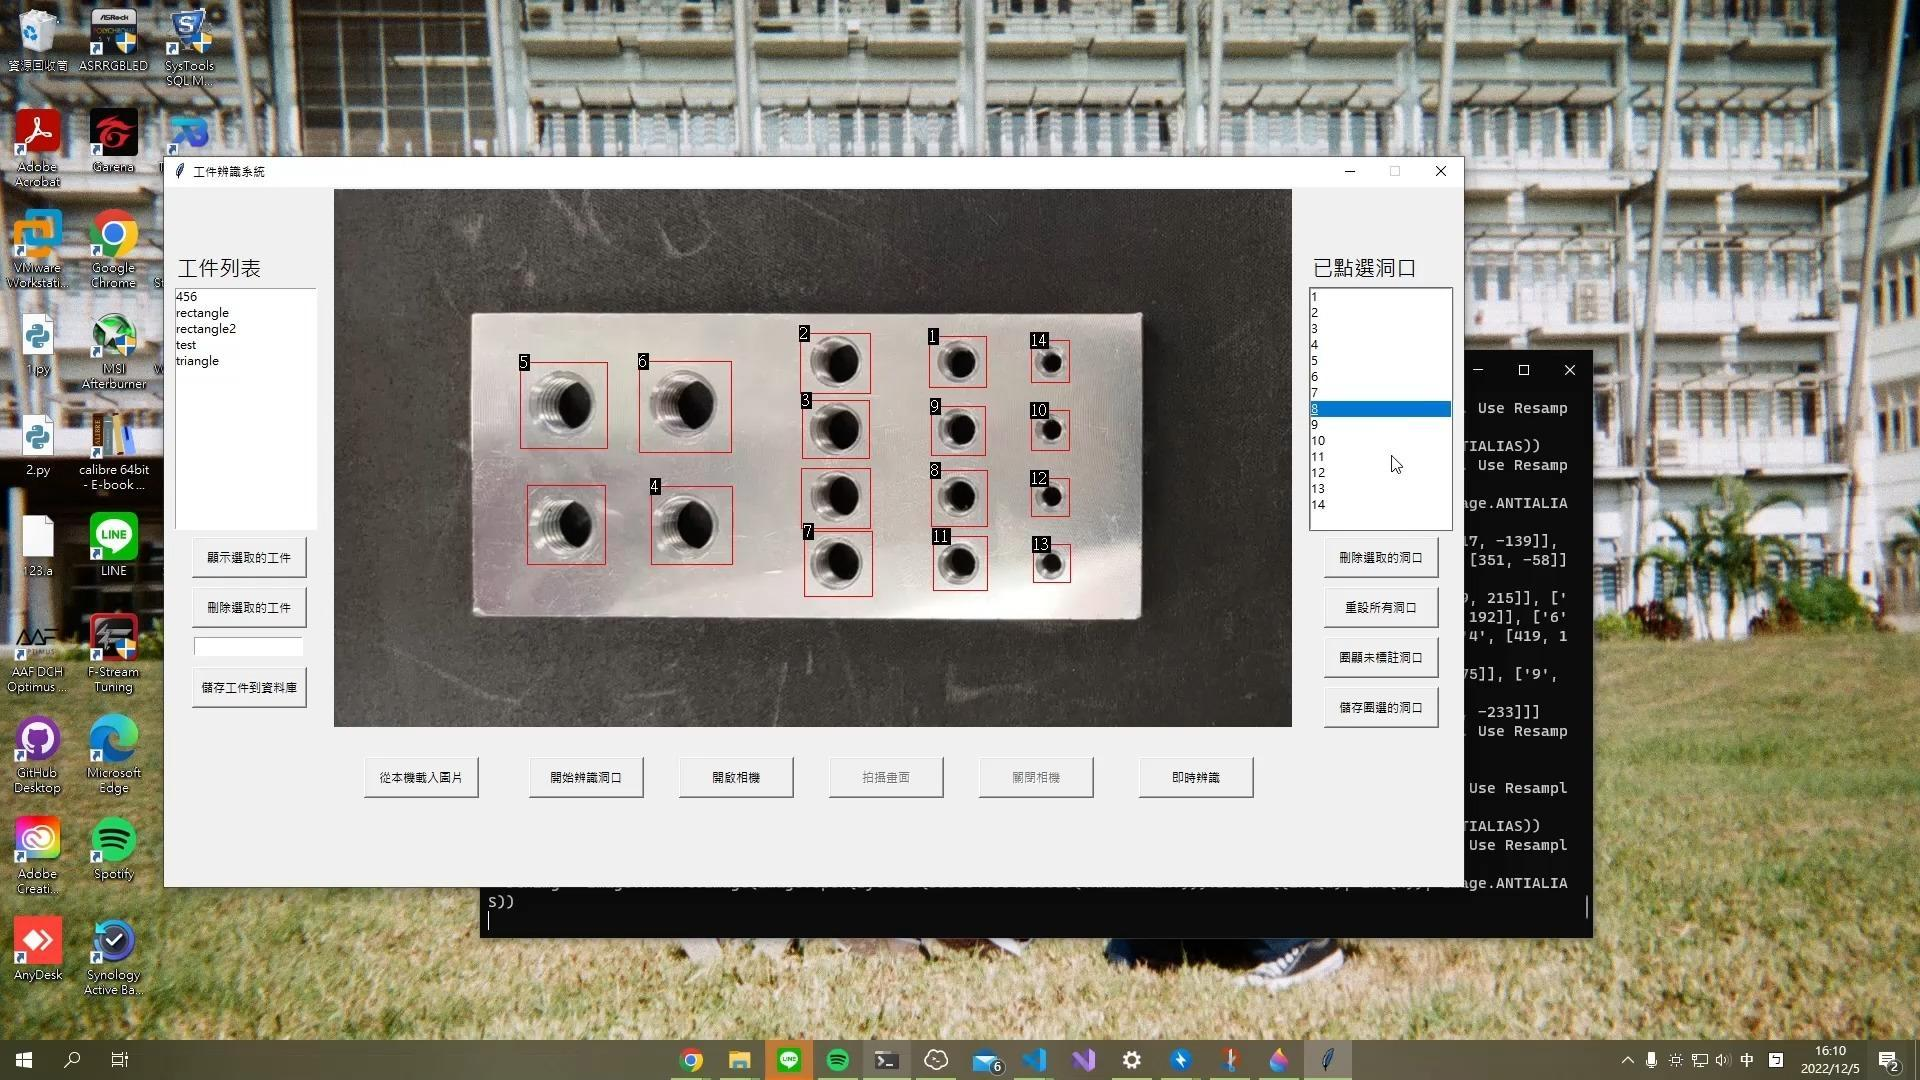hole: (334, 189, 1294, 727), (674, 609, 754, 687), (527, 484, 603, 563), (651, 491, 719, 564), (650, 368, 717, 438), (527, 368, 593, 435), (804, 469, 870, 525), (810, 538, 866, 593), (810, 334, 865, 385), (935, 472, 986, 524), (810, 404, 864, 452), (935, 541, 988, 589), (932, 338, 986, 385), (938, 406, 984, 451), (175, 256, 258, 277), (1033, 477, 1071, 516), (1034, 339, 1069, 380), (1034, 409, 1069, 448), (1035, 545, 1069, 582)
